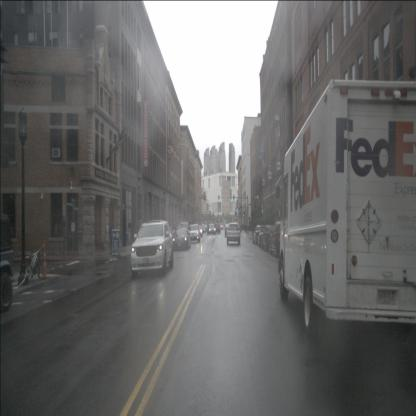cone: (39, 244, 50, 281)
